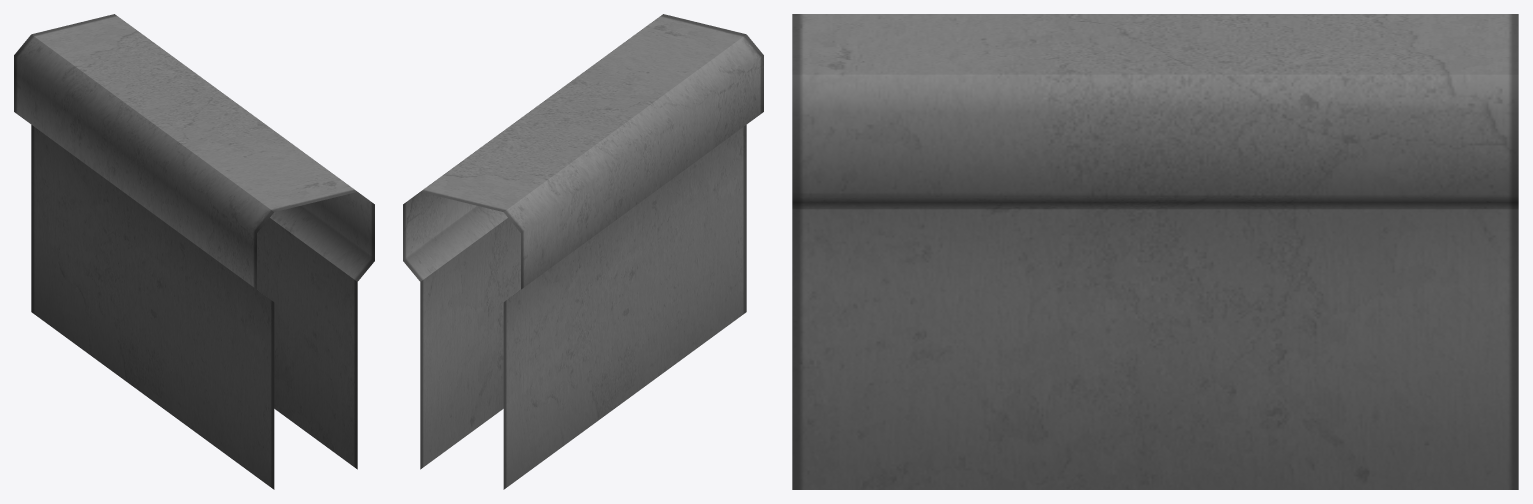
The model's file is Wall_Straight.fbx.
3 views of the same model, side by side, from view 1: azimuth 30°, elevation 25°; view 2: azimuth 150°, elevation 25°; view 3: azimuth 270°, elevation 25° (orthographic). The views are drawn at different scales.
Parts seen in each view (by area): view 1: pCube12; view 2: pCube12; view 3: pCube12.
Boxes of the visible parts, x1,y1,x2,y2 form: pCube12: (14, 14, 374, 489); pCube12: (403, 14, 763, 489); pCube12: (792, 14, 1518, 489).
Size of the model in its own units: 81.57 by 184 by 292.
